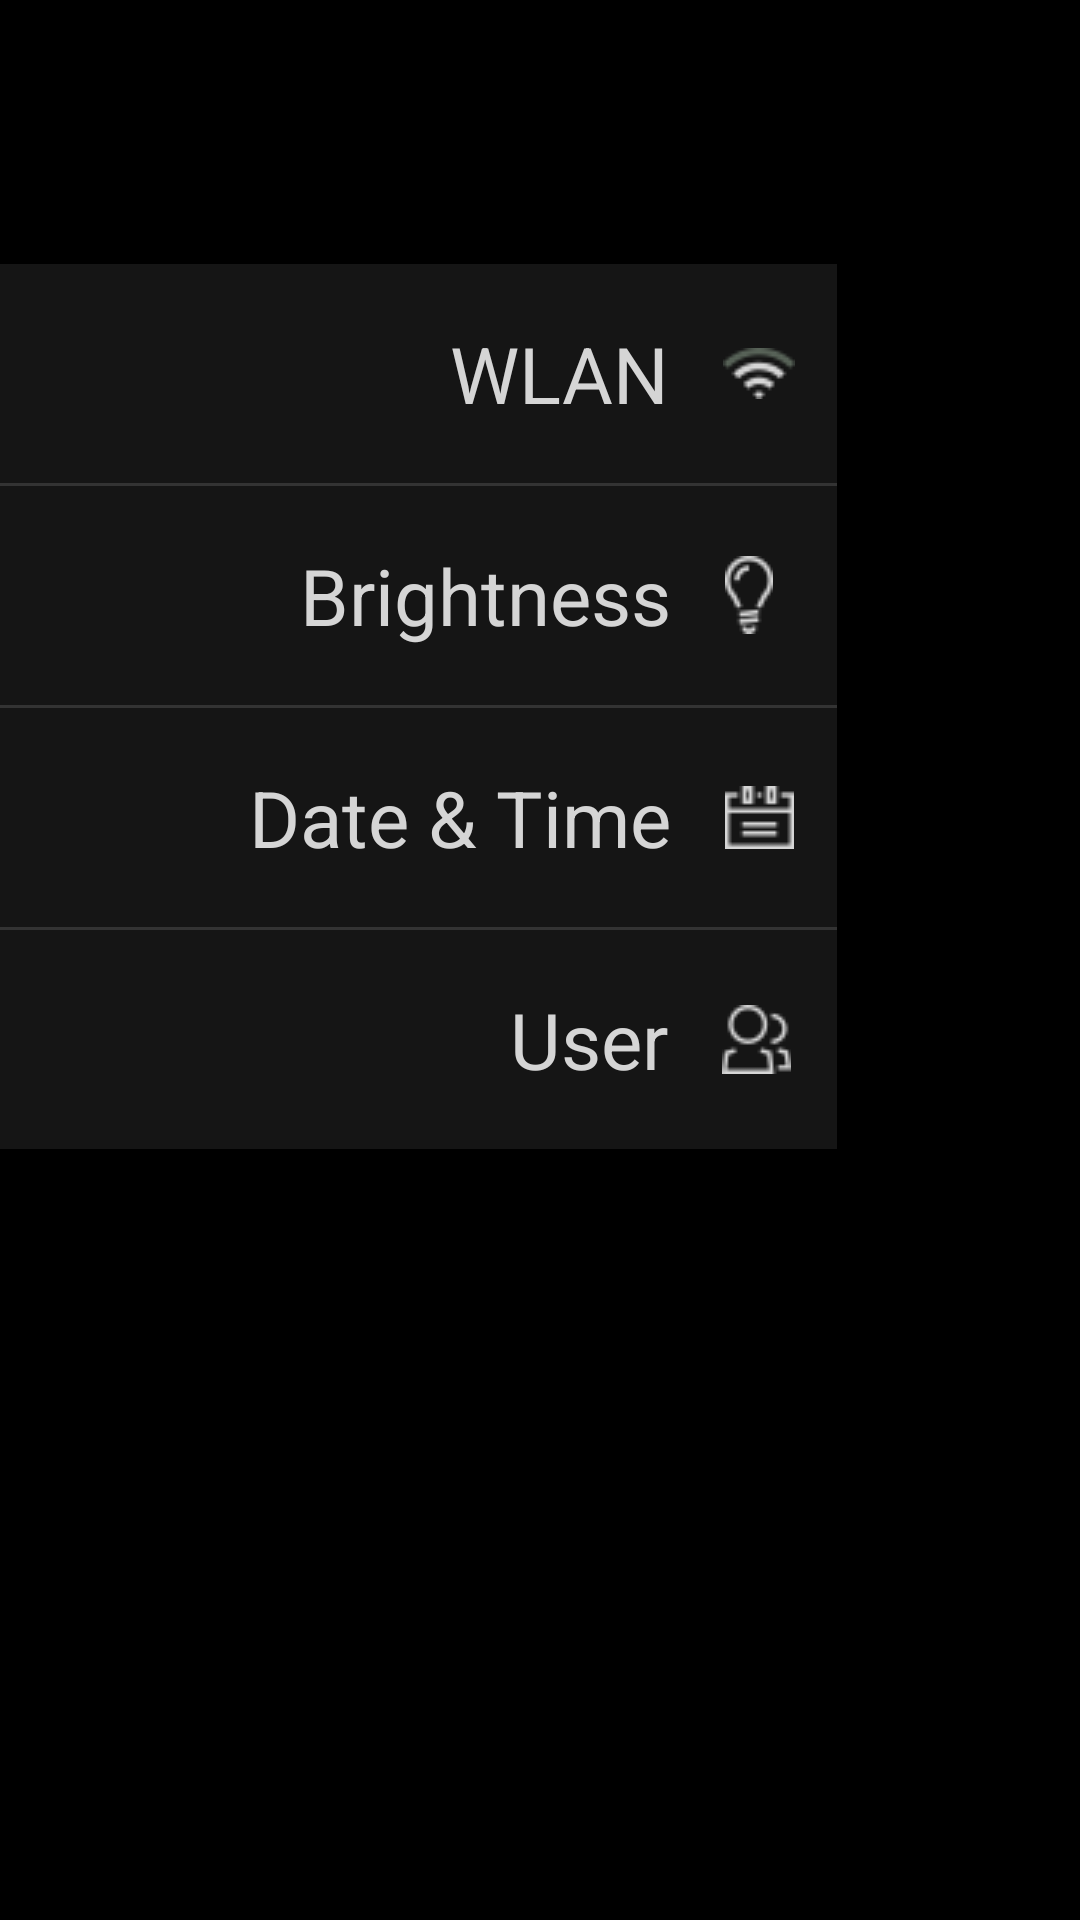

Locate icon controls on the screen. Image size 1080×1920, boxes as bbox=[x1, y1, x2, y2].
wifi: bbox=[723, 348, 795, 399]
